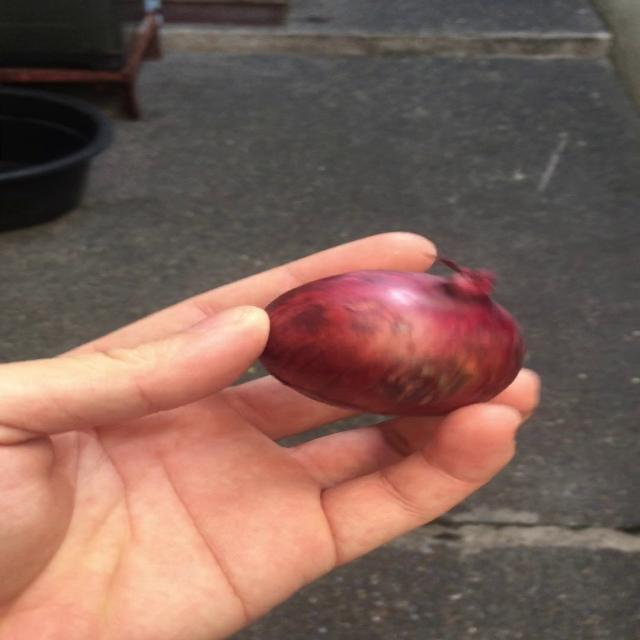Onion: (260, 258, 524, 416)
